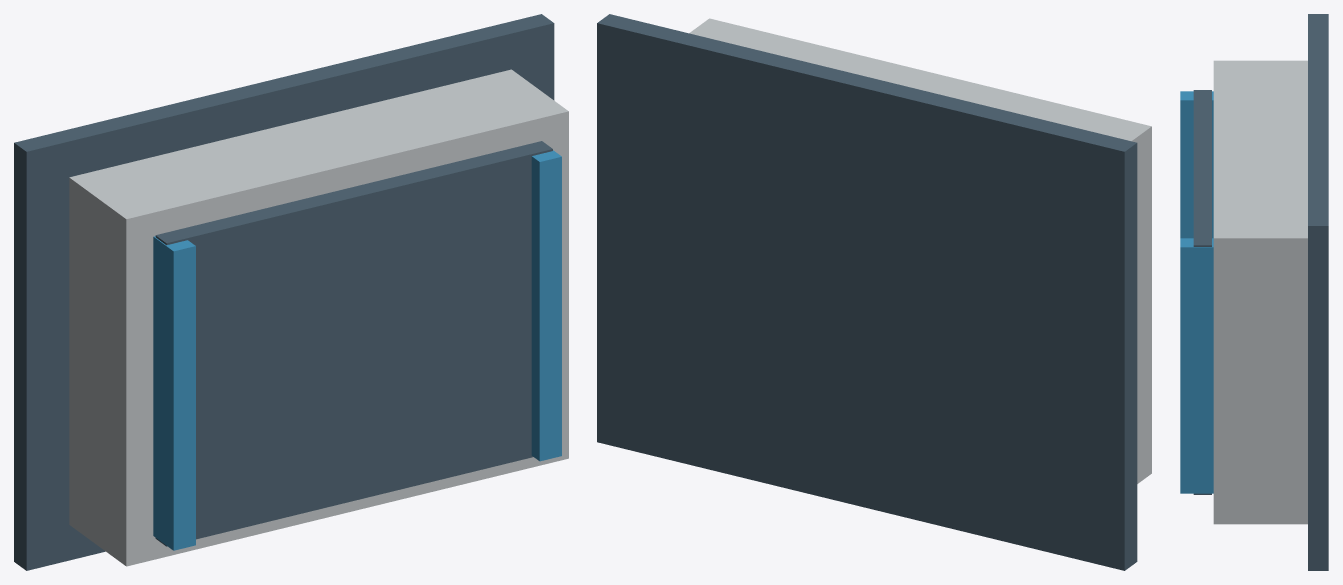
The model's file is b_airfield.glb.
3 renders of one model, left to right at view 1: azimuth 30°, elevation 25°; view 2: azimuth 150°, elevation 25°; view 3: azimuth 270°, elevation 25°, orthographic. The views are drawn at different scales.
Parts seen in each view (by area): view 1: roof, main_structure, foundation, support_-2.88, support_2.88; view 2: foundation, main_structure; view 3: main_structure, foundation, support_2.88, roof, support_-2.88.
Boxes of the visible parts, bbox=[...] form: roof: bbox=[155, 141, 552, 546]; main_structure: bbox=[69, 69, 568, 566]; foundation: bbox=[14, 14, 554, 570]; support_-2.88: bbox=[153, 236, 195, 550]; support_2.88: bbox=[531, 150, 561, 461]; foundation: bbox=[597, 14, 1137, 570]; main_structure: bbox=[689, 18, 1151, 483]; main_structure: bbox=[1213, 60, 1307, 524]; foundation: bbox=[1308, 14, 1328, 570]; support_2.88: bbox=[1180, 238, 1213, 493]; roof: bbox=[1193, 90, 1211, 494]; support_-2.88: bbox=[1180, 91, 1213, 238].
Size of the model in its own units: 8.3 by 6.3 by 2.45.
